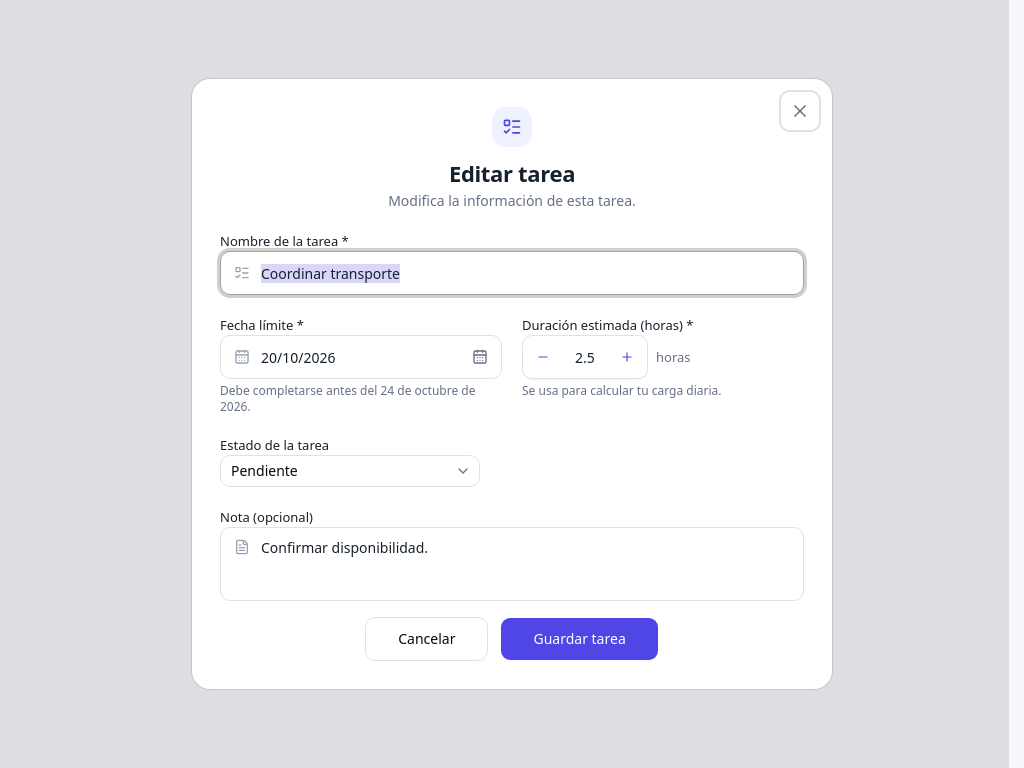
Test: EditSubtaskDialog › rechaza un tiempo estimado que supera el límite diario
The image size is (1024, 768).
Replace the text in the number field named "Tiempo estimado *" with "5" at (585,357), box [557,341,613,373]
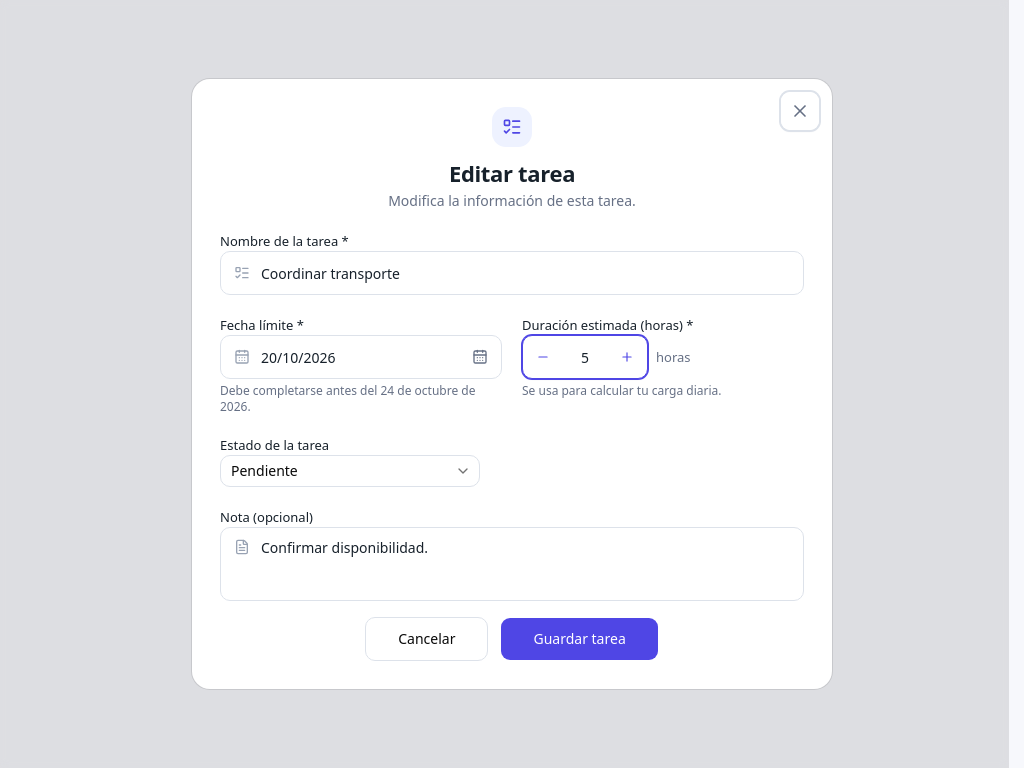
Click the button with aria-label "Guardar cambios" at (580,639), box [500,617,659,661]
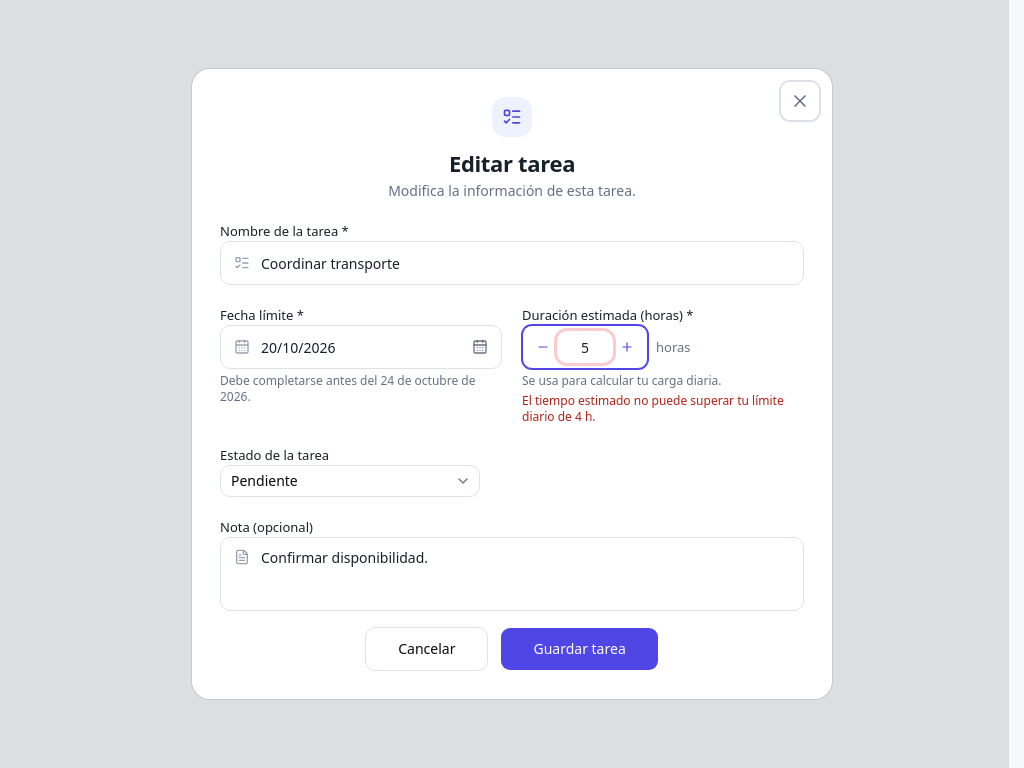
Now the text "El tiempo estimado no puede superar tu límite diario de 4 h." is shown, box [522,393,804,425]
